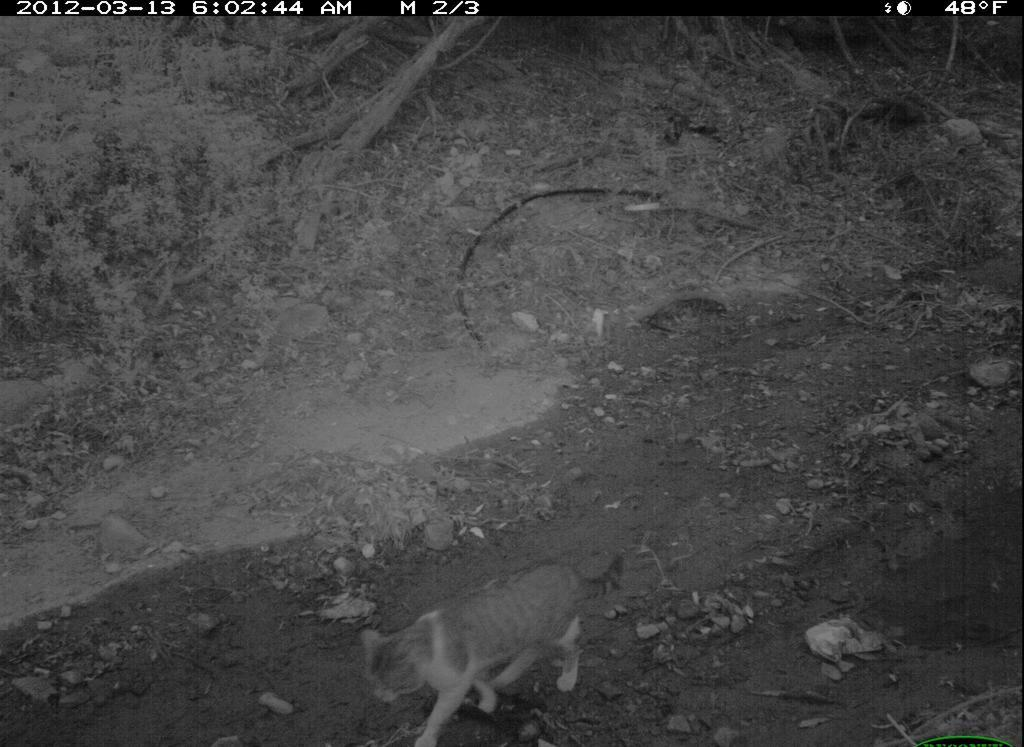cat: (349, 555, 643, 747)
